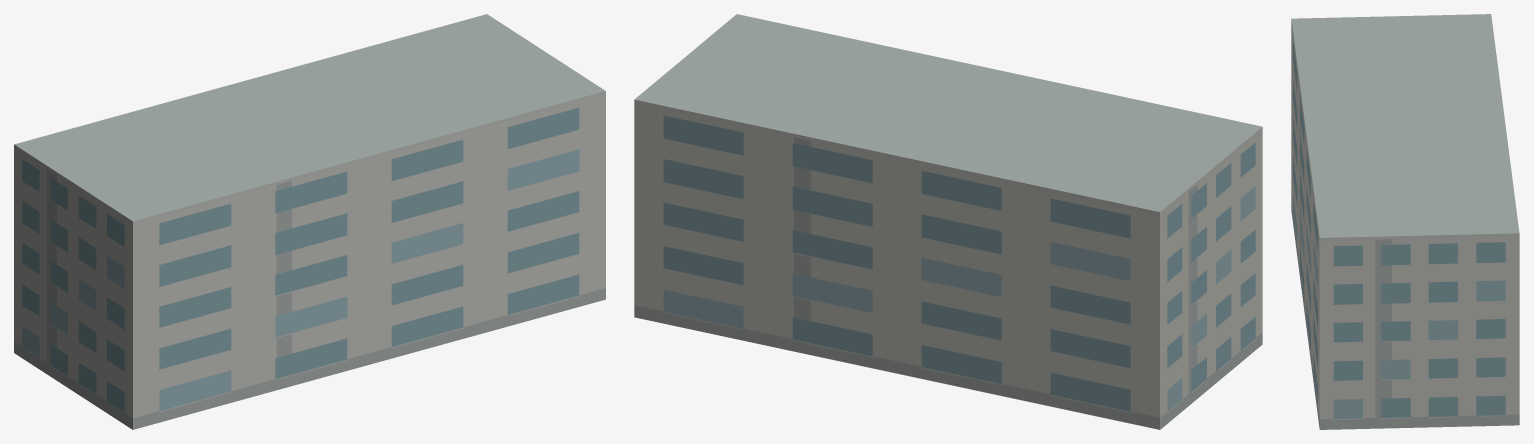
File: residential-8022137e-5799-478b-a9fe-6bd7f8e6d42e.glb
3 views of the same model, side by side, from view 1: azimuth 30°, elevation 25°; view 2: azimuth 150°, elevation 25°; view 3: azimuth 270°, elevation 25° (orthographic). The views are drawn at different scales.
Visible parts, largest first — view 1: residential-8022137e-5799-478b-a9fe-6bd7f8e6d42e.tmp; view 2: residential-8022137e-5799-478b-a9fe-6bd7f8e6d42e.tmp; view 3: residential-8022137e-5799-478b-a9fe-6bd7f8e6d42e.tmp.
Part boxes in pixels (x1,y1,x2,y2): residential-8022137e-5799-478b-a9fe-6bd7f8e6d42e.tmp: (14,14,605,429); residential-8022137e-5799-478b-a9fe-6bd7f8e6d42e.tmp: (634,14,1262,429); residential-8022137e-5799-478b-a9fe-6bd7f8e6d42e.tmp: (1291,14,1519,429).
Size of the model in its own units: 38.16 by 15.25 by 16.43.
